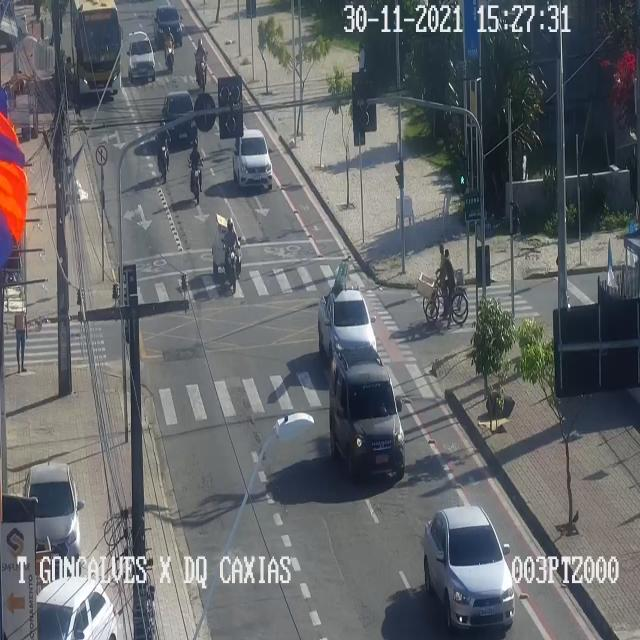Bus: (72, 0, 121, 92)
Car: (422, 505, 516, 639), (329, 352, 407, 483), (24, 461, 85, 567), (36, 574, 116, 639), (318, 290, 378, 370), (232, 127, 274, 190), (160, 91, 197, 145), (126, 39, 157, 84), (153, 4, 183, 49)
Motorcycle: (221, 217, 243, 294), (154, 116, 172, 186), (188, 137, 204, 205), (194, 38, 210, 92), (163, 25, 175, 72)
